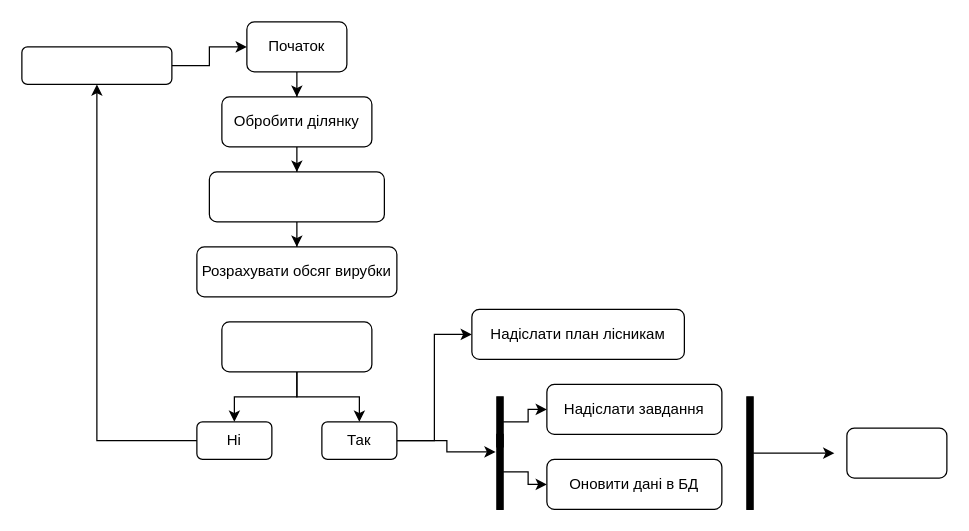
The diagram is 969 pixels wide and 531 high, and some of its shapes have lost their labels. The centre of each missing label's shape, as x and y in pixels:
"Завершити" goes at pixel 896 452.
"Затвердити план" goes at pixel 296 346.
"Перевірити стан лісу" goes at pixel 296 196.
"Цикл повторюється" goes at pixel 96 65.
